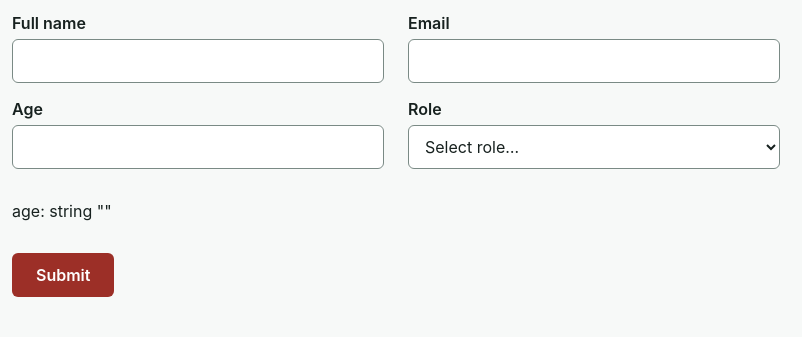
Test: InputField › after blur with an invalid value, links the visible error through aria-describedby
Type "A" into the field labelled "Full name" at (198, 61), box [12,39,384,83]
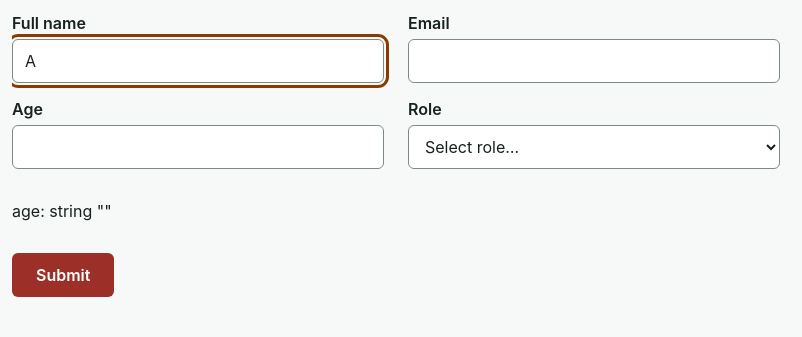
Press Tab
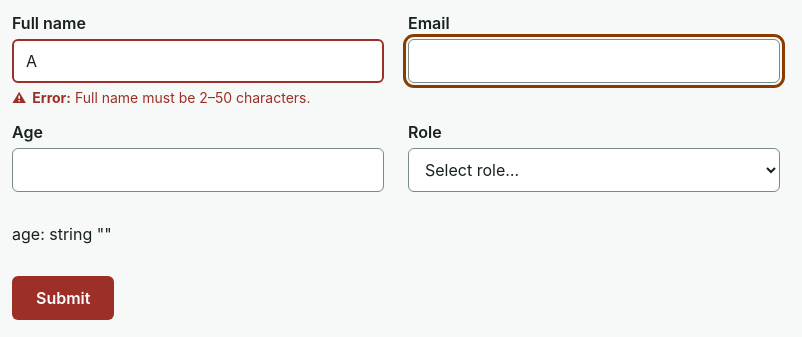
Expected: the field labelled "Full name" is marked as invalid, [12,39,384,83]
Expected: the field labelled "Full name" has attribute aria-describedby, [12,39,384,83]
